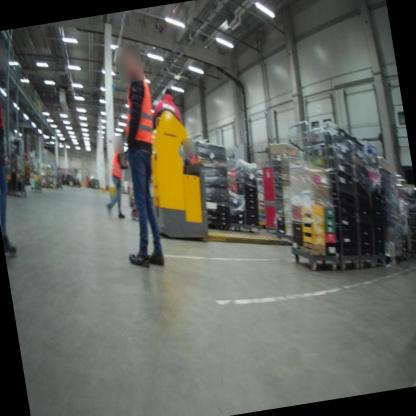pallet_truck: (129, 88, 293, 267)
